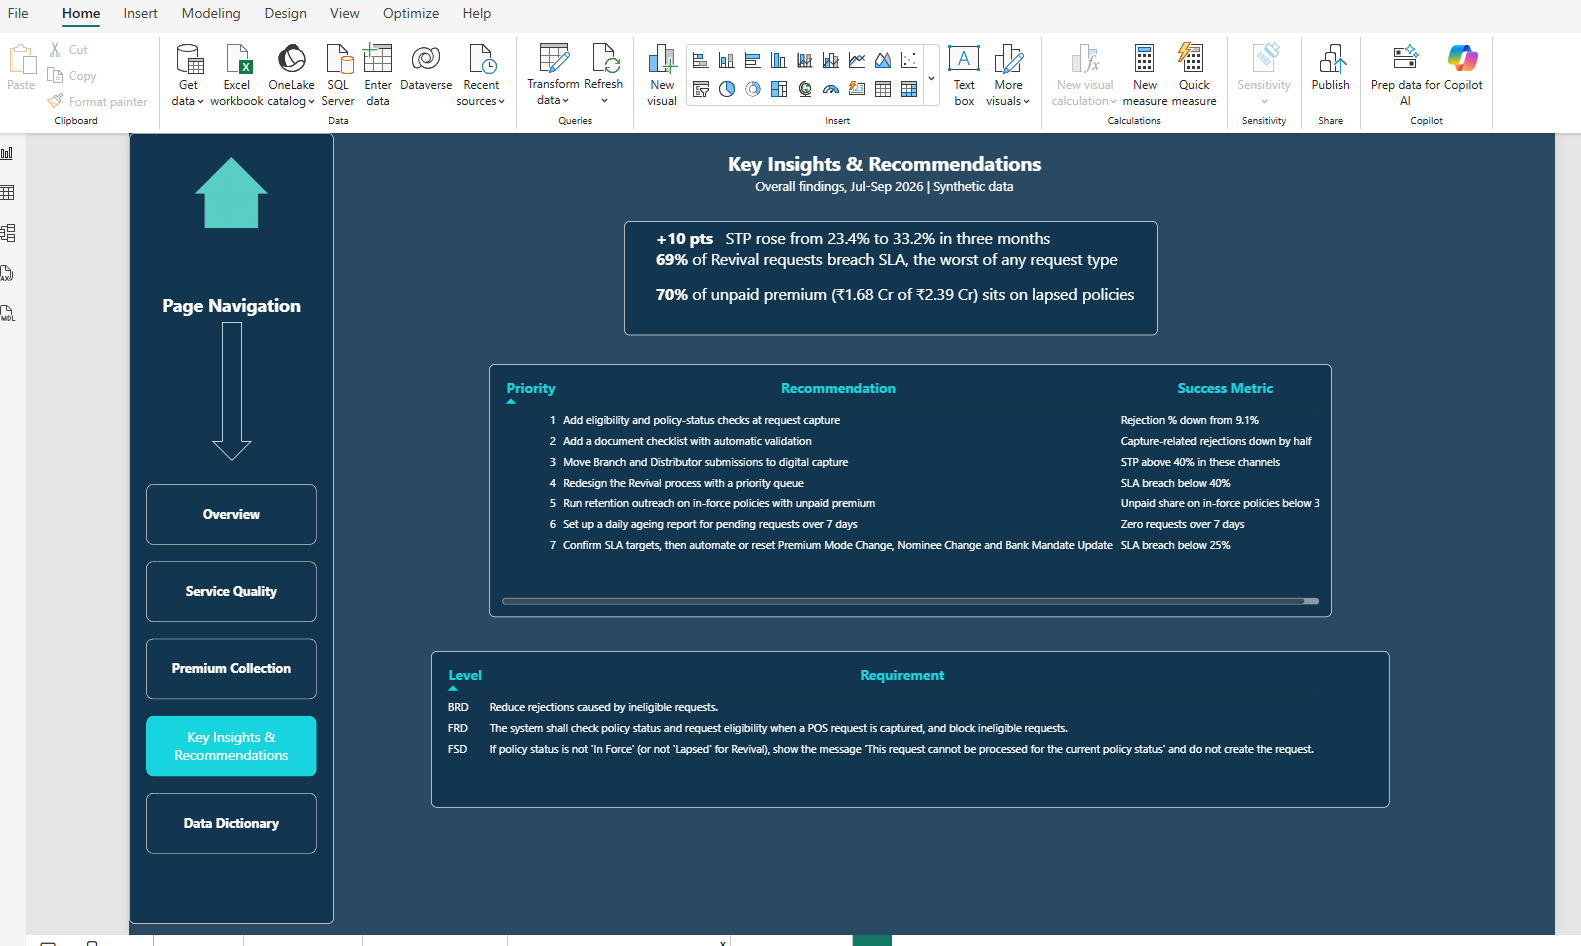

The dashboard page shown, as its layout file describes it:
{"tool":"powerbi","page":{"name":"Key Insights & Recommendations","canvas":[1920,1080],"ordinal":3},"visuals":[{"type":"textbox","title":"Key Insights & Recommendations","box":[522.5,21.5,989.8,72.7],"z":0},{"type":"tableEx","fields":{"Values":["Recommendations.Priority","Recommendations.Recommendation","Recommendations.Success Metric"]},"box":[484.8,311.1,1135.2,340.7],"z":1000},{"type":"tableEx","fields":{"Values":["Requirement Trace.Level","Requirement Trace.Requirement"]},"box":[406.7,697.6,1291.4,211.4],"z":2000},{"type":"textbox","box":[666.6,118.5,719.1,153.5],"z":3000},{"type":"shape","title":"sidebar_page3","box":[0,0,276.1,1065.2],"z":4000},{"type":"image","title":"Home_image_base","box":[53.9,0,168.3,160.2],"z":5000},{"type":"pageNavigator","box":[22.9,472.7,230.3,502.3],"z":5501},{"type":"textbox","box":[22.9,215.5,230.3,76.8],"z":5502},{"type":"shape","box":[111.8,254.5,53.9,187.2],"z":5503}]}

Visuals, with their boxes on the page's 1920x1080 design canvas (x1, y1, x2, y2). These are canvas units, not pixel positions in the 1581x946 screenshot, which may show the page scaled, cropped or inside an application window:
"Key Insights & Recommendations" textbox: (left=522, top=22, right=1512, bottom=94)
tableEx - Recommendations.Priority x Recommendations.Recommendation: (left=485, top=311, right=1620, bottom=652)
tableEx - Requirement Trace.Level x Requirement Trace.Requirement: (left=407, top=698, right=1698, bottom=909)
textbox: (left=667, top=118, right=1386, bottom=272)
"sidebar_page3" shape: (left=0, top=0, right=276, bottom=1065)
"Home_image_base" image: (left=54, top=0, right=222, bottom=160)
pageNavigator: (left=23, top=473, right=253, bottom=975)
textbox: (left=23, top=216, right=253, bottom=292)
shape: (left=112, top=254, right=166, bottom=442)
